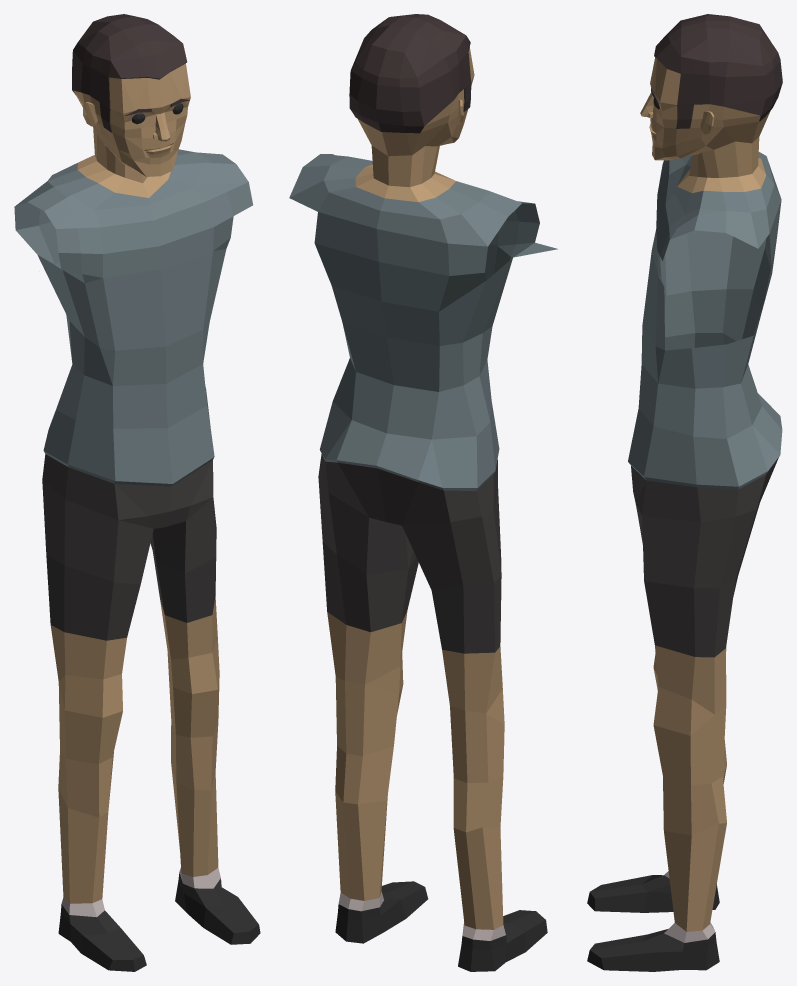
File: Male_Casual.glb
3 views of the same model, side by side, from view 1: azimuth 30°, elevation 25°; view 2: azimuth 150°, elevation 25°; view 3: azimuth 270°, elevation 25° (orthographic). The views are drawn at different scales.
Parts seen in each view (by area): view 1: BaseHuman; view 2: BaseHuman; view 3: BaseHuman.
Boxes of the visible parts, x1,y1,x2,y2 form: BaseHuman: [14, 14, 260, 971]; BaseHuman: [289, 14, 557, 971]; BaseHuman: [587, 14, 782, 971].
Bounding box in the file's own units: 1.23 × 4.84 × 0.9428.
